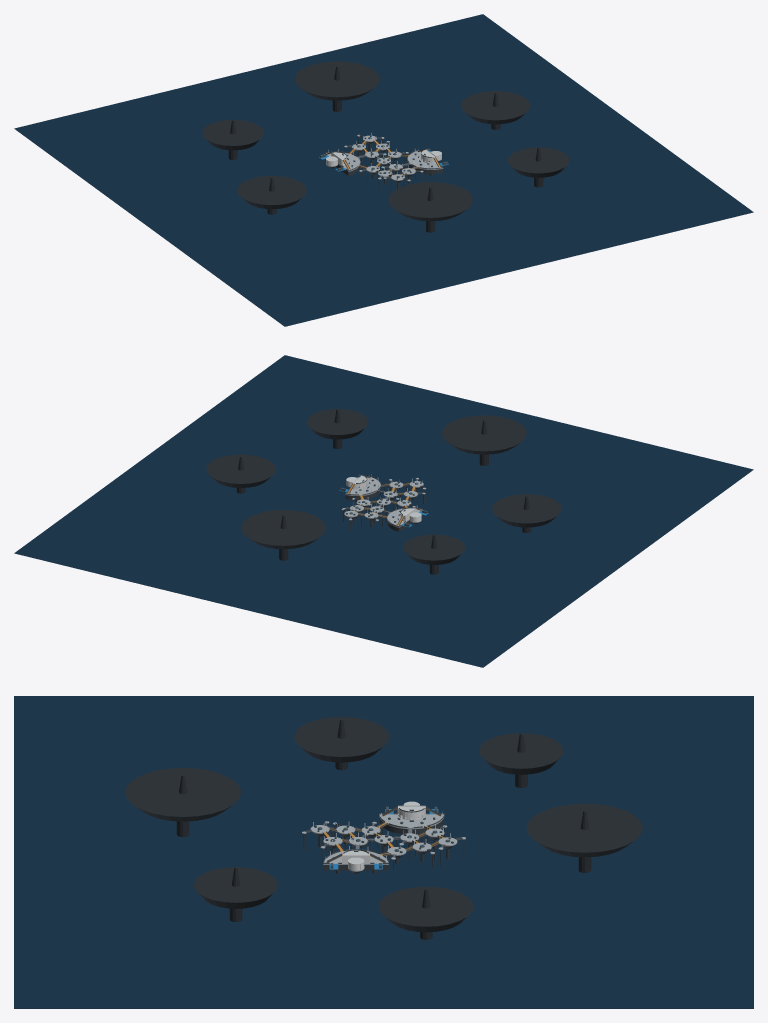
The model's file is kamino_greybox.glb.
3 views of the same model, one above another, from view 1: azimuth 30°, elevation 25°; view 2: azimuth 150°, elevation 25°; view 3: azimuth 270°, elevation 25° (orthographic). The views are drawn at different scales.
Visible parts, largest first — view 1: Kamino_Sea_vis, Kamino_City_vis, Kamino_Deck_col-col, Kamino_Under_vis, Kamino_Rail_col-col; view 2: Kamino_Sea_vis, Kamino_City_vis, Kamino_Deck_col-col, Kamino_Under_vis, Kamino_Rail_col-col; view 3: Kamino_Sea_vis, Kamino_City_vis, Kamino_Deck_col-col, Kamino_Under_vis, Kamino_Rail_col-col, Kamino_Wall_col-col, Kamino_Cover_col-col.
Boxes of the visible parts, <box> form: Kamino_Sea_vis: <box>14,14,753,326</box>; Kamino_City_vis: <box>202,61,569,232</box>; Kamino_Deck_col-col: <box>325,134,443,181</box>; Kamino_Under_vis: <box>325,137,442,190</box>; Kamino_Rail_col-col: <box>324,135,443,180</box>; Kamino_Sea_vis: <box>14,355,753,667</box>; Kamino_City_vis: <box>206,409,561,574</box>; Kamino_Deck_col-col: <box>341,476,426,527</box>; Kamino_Under_vis: <box>343,481,424,531</box>; Kamino_Rail_col-col: <box>343,475,424,526</box>; Kamino_Sea_vis: <box>14,696,753,1008</box>; Kamino_City_vis: <box>125,717,642,939</box>; Kamino_Deck_col-col: <box>302,814,465,864</box>; Kamino_Under_vis: <box>303,818,464,874</box>; Kamino_Rail_col-col: <box>305,806,462,863</box>; Kamino_Wall_col-col: <box>342,805,425,870</box>; Kamino_Cover_col-col: <box>314,806,453,868</box>.
Bounding box in the file's own units: 700 × 64 × 700.
